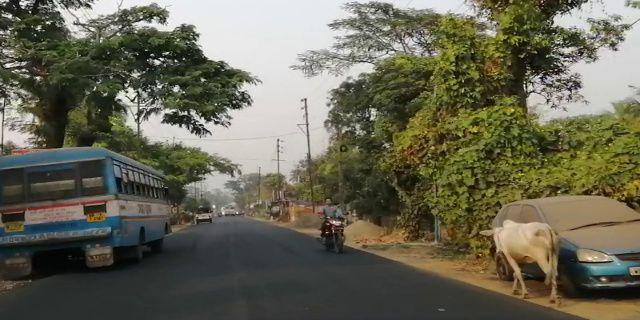Bus: (1, 145, 177, 276)
Car: (489, 193, 639, 294)
Motorbike: (309, 194, 357, 257)
